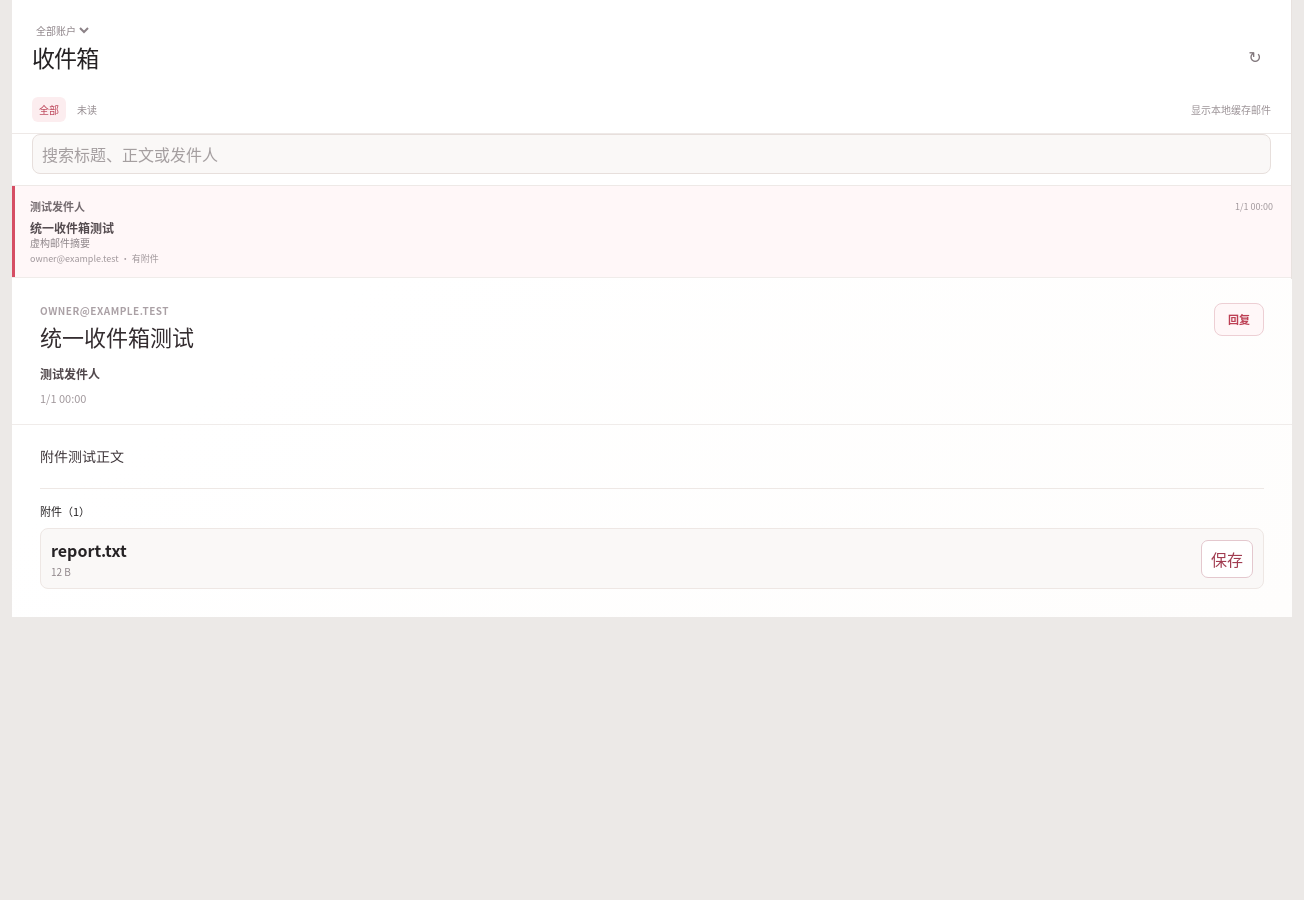
Test: MailWorkspace › 附件失败时显示安全错误并允许独立重试
The image size is (1304, 900).
Click the button "保存": (1227, 559) [1201, 540, 1253, 578]
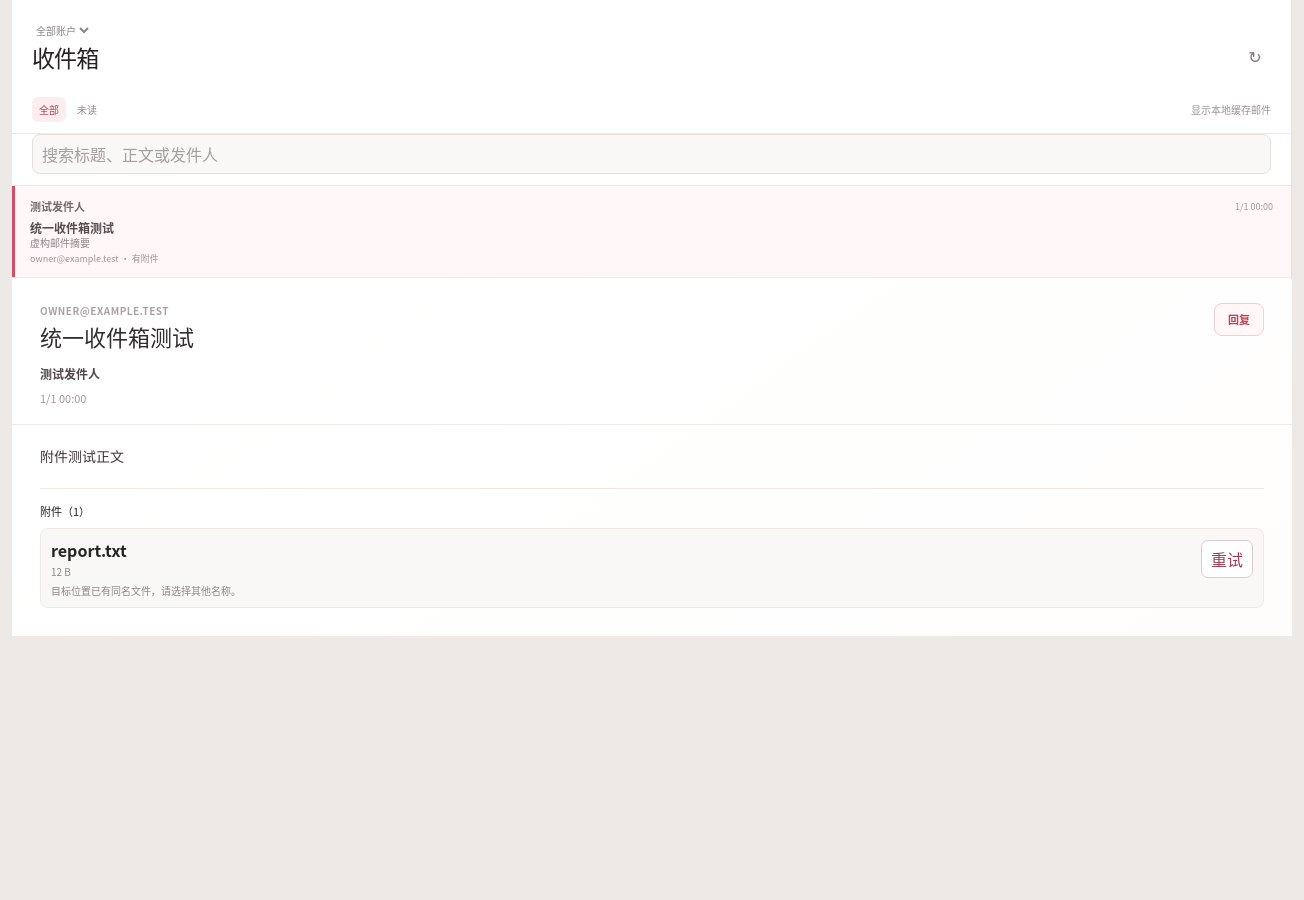
Expected: the message reads "目标位置已有同名文件，请选择其他名称。", [51, 583, 241, 598]
Click the button "重试": (1227, 559) [1201, 540, 1253, 578]
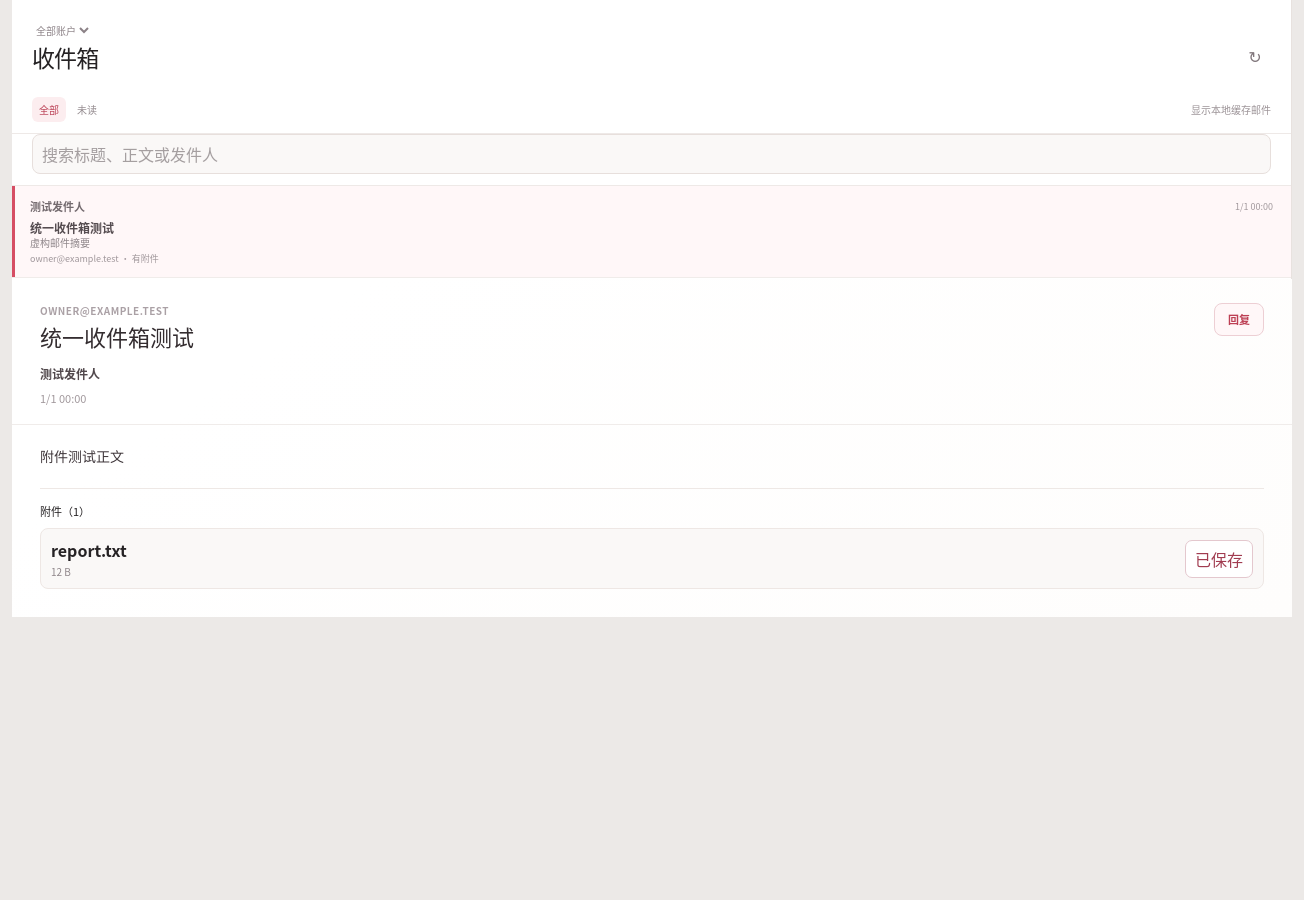
Expected: the button "已保存" is shown, [1185, 540, 1253, 578]
